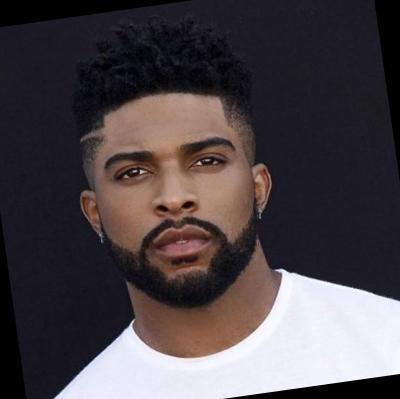Sober: (99, 94, 255, 292)
